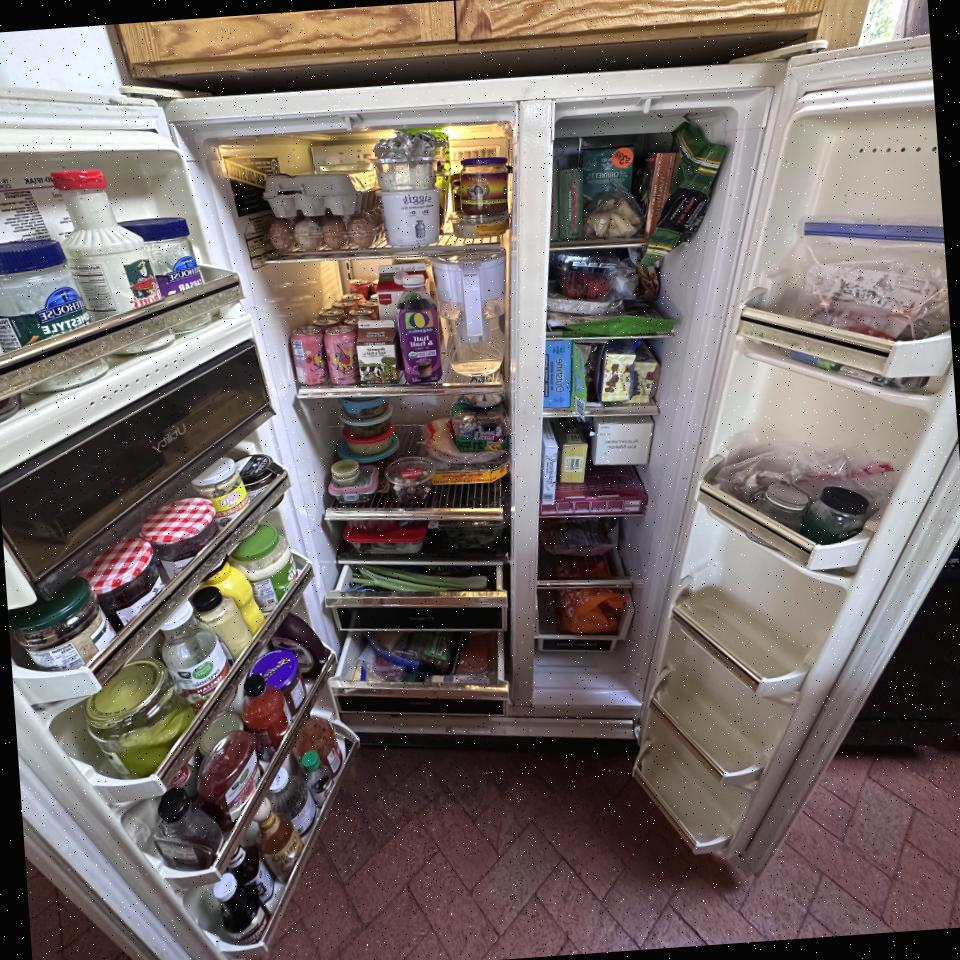Huevos: (261, 166, 379, 221), (266, 213, 384, 254)
Yogur: (379, 188, 445, 248)
